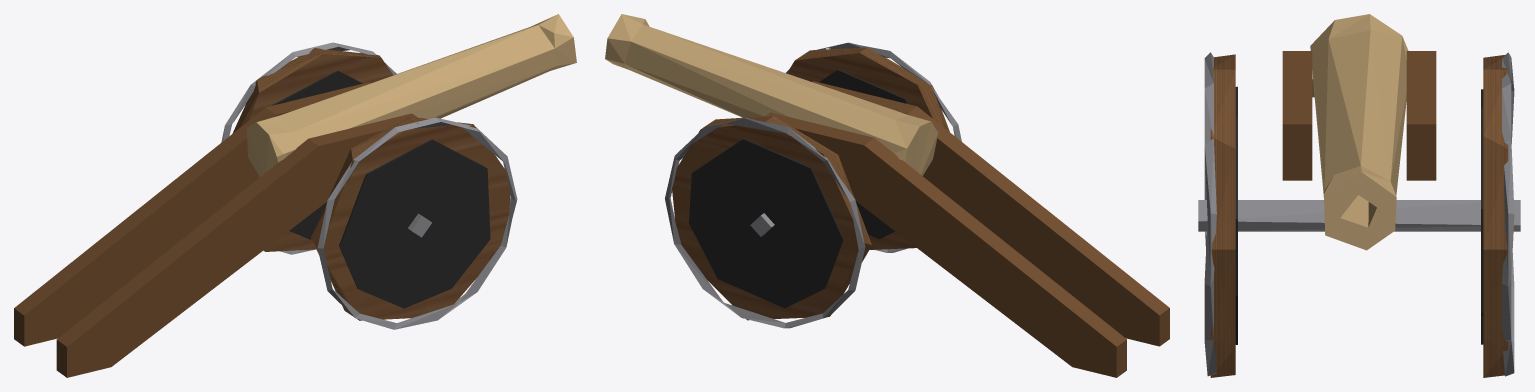
The model's file is field_cannon_lod1.glb.
The picture shows the model from 3 angles, left to right: view 1: azimuth 30°, elevation 25°; view 2: azimuth 150°, elevation 25°; view 3: azimuth 270°, elevation 25°; orthographic projection. The views are drawn at different scales.
Parts seen in each view (by area): view 1: m; view 2: m; view 3: m.
Part boxes in pixels (box(x1,y1,x2,y2)): m: box(14, 14, 576, 377); m: box(605, 14, 1169, 377); m: box(1198, 14, 1520, 377).
Size of the model in its own units: 3.55 by 1.46 by 1.3.
4 materials, 1 textured.
